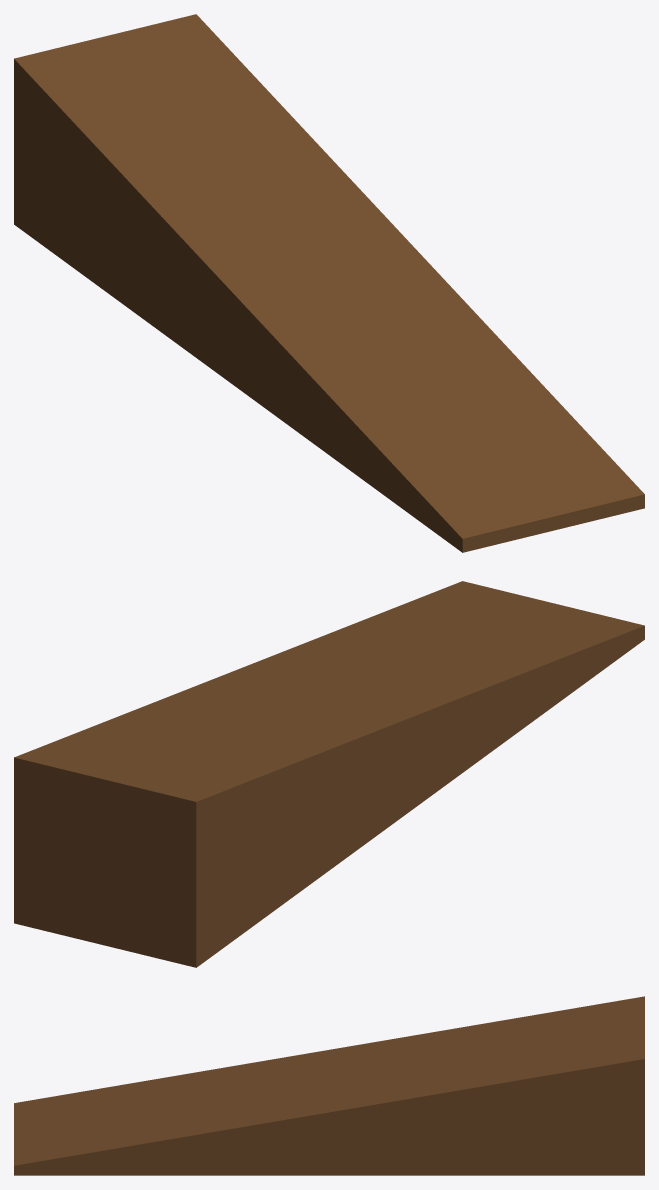
File: doorStopER.fbx
The picture shows the model from 3 angles, top to bottom: view 1: azimuth 30°, elevation 25°; view 2: azimuth 150°, elevation 25°; view 3: azimuth 270°, elevation 25°; orthographic projection. The views are drawn at different scales.
Visible parts, largest first — view 1: Cube; view 2: Cube; view 3: Cube.
Boxes of the visible parts, <box> form: Cube: <box>14,14,644,552</box>; Cube: <box>14,581,644,967</box>; Cube: <box>14,996,644,1175</box>.
Bounding box in the file's own units: 46.96 × 40.81 × 200.
